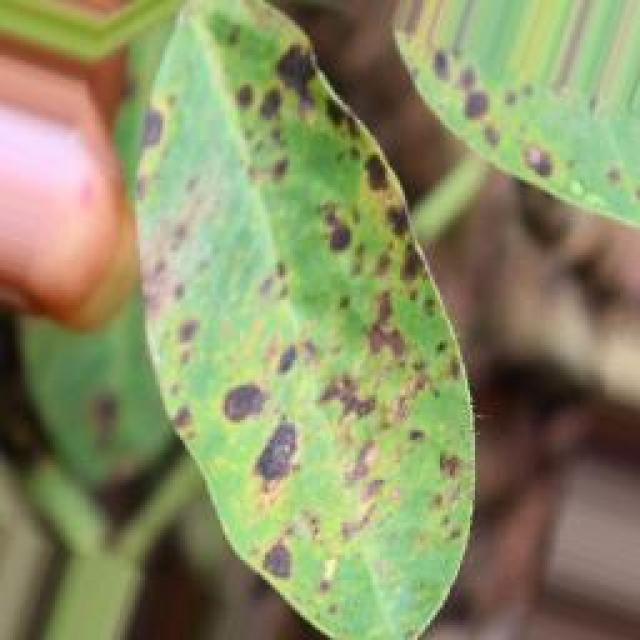Yellowish: (69, 0, 575, 640)
